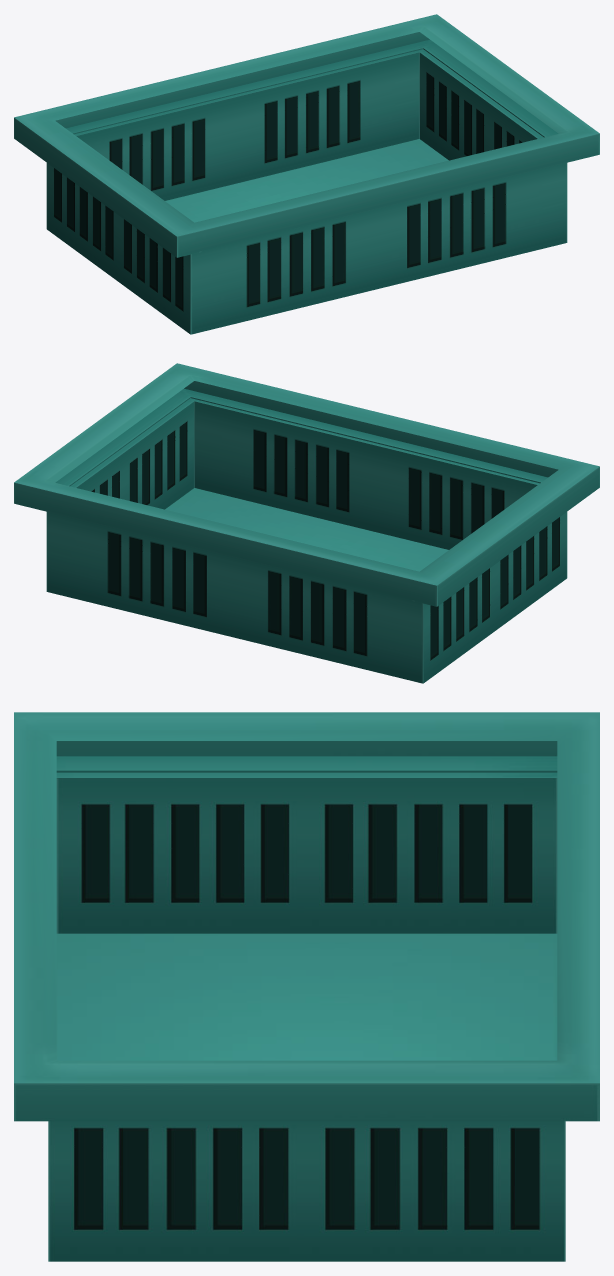
The model's file is basket.fbx.
3 renders of one model, top to bottom at view 1: azimuth 30°, elevation 25°; view 2: azimuth 150°, elevation 25°; view 3: azimuth 270°, elevation 25°, orthographic. The views are drawn at different scales.
Parts seen in each view (by area): view 1: basket; view 2: basket; view 3: basket.
Boxes of the visible parts, x1,y1,x2,y2 form: basket: (14,14,599,334); basket: (14,363,599,683); basket: (14,712,599,1261).
Bounding box in the file's own units: 6.18 × 1.55 × 4.13.
